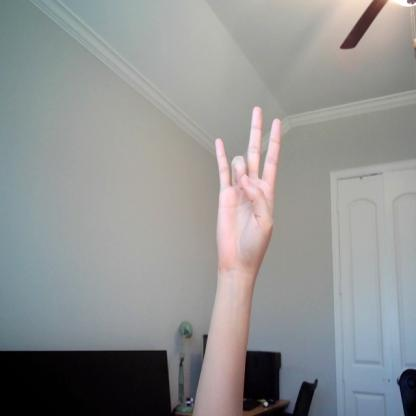seven: (214, 101, 286, 281)
